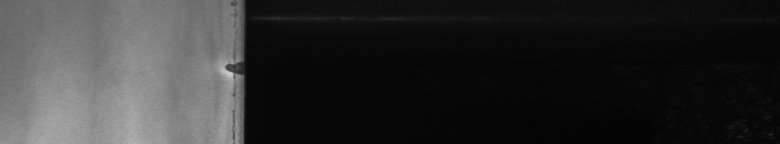hb: (211, 52, 232, 84)
